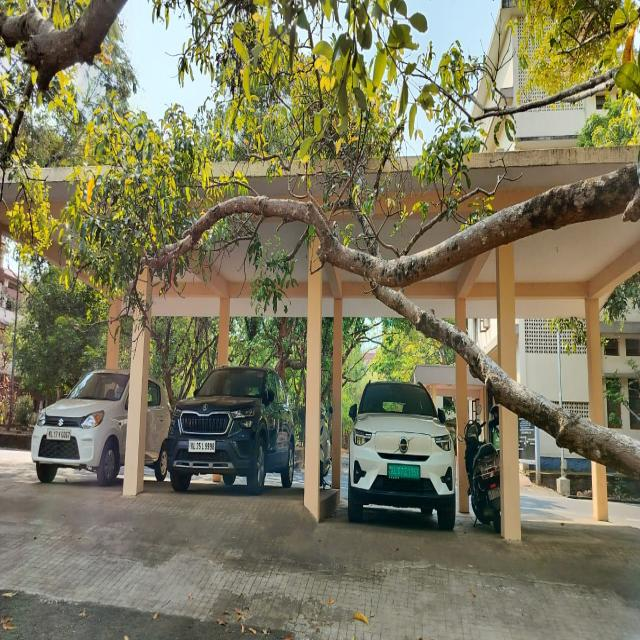car ahead at: (167, 350, 297, 499), (29, 358, 170, 490), (347, 368, 460, 525)
motorcycle ahead at: (458, 407, 503, 532)
pillar ahead at: (125, 267, 152, 494), (304, 240, 321, 524)
